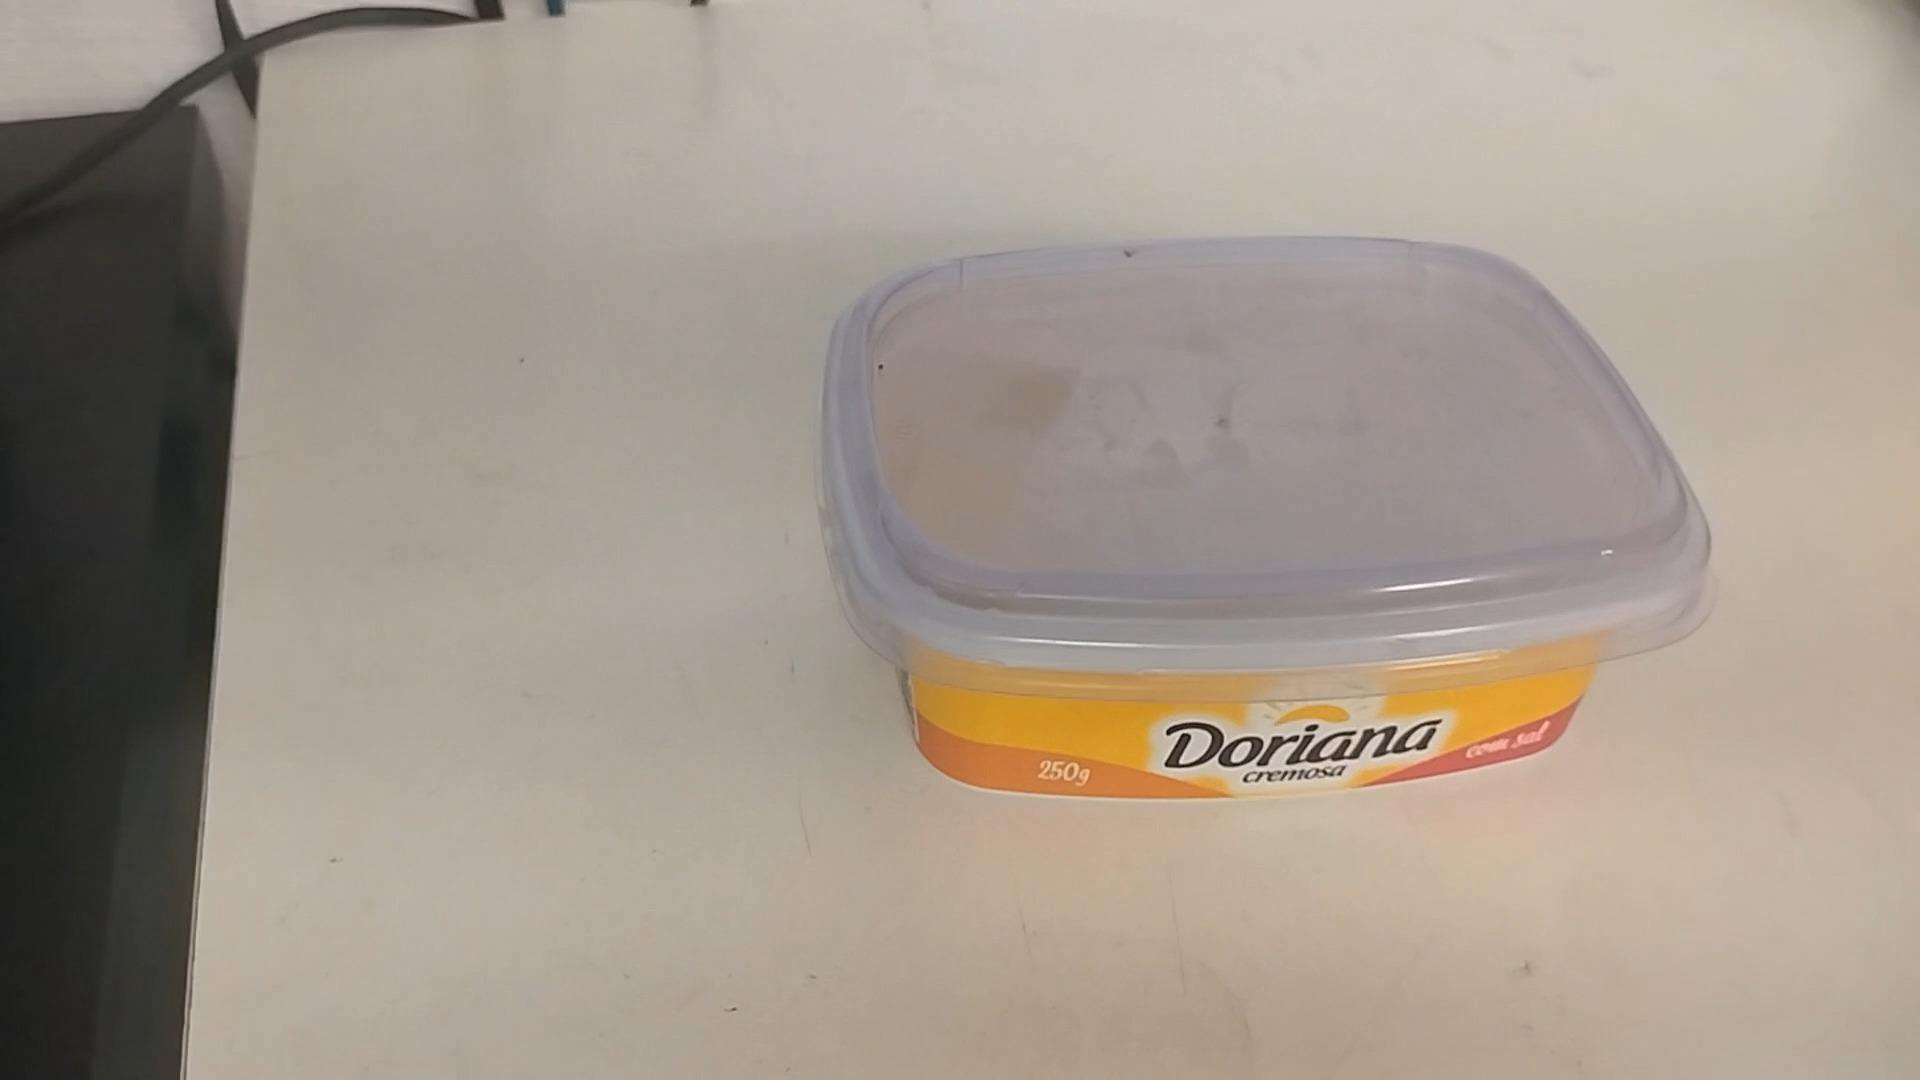butter: (820, 248, 1722, 803)
